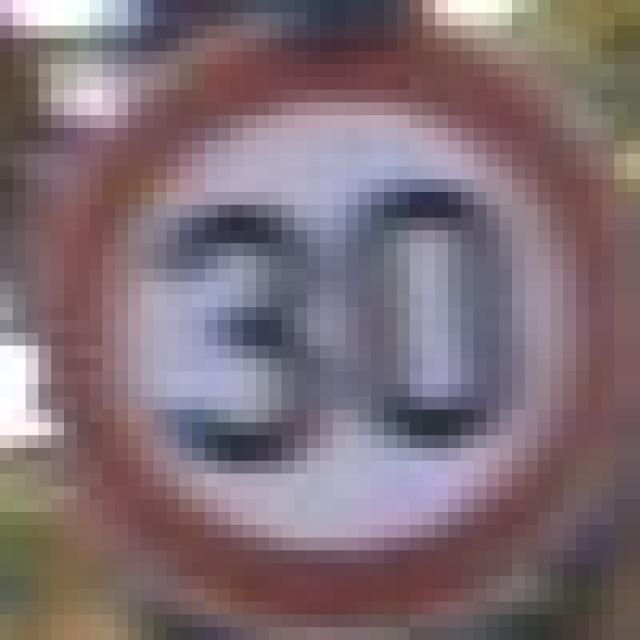SPEED_LIMIT_30: (38, 13, 614, 627)
